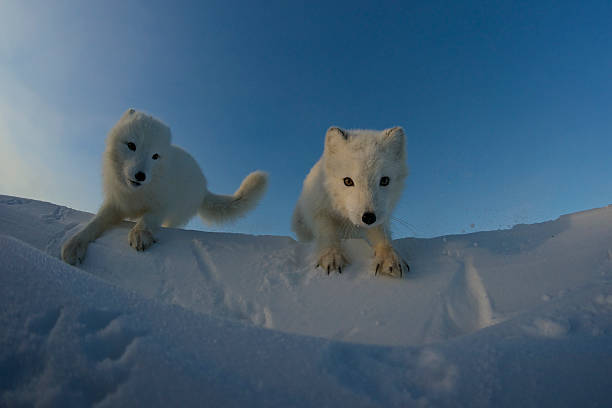arcticfox: (114, 119, 173, 210), (331, 144, 382, 236)
